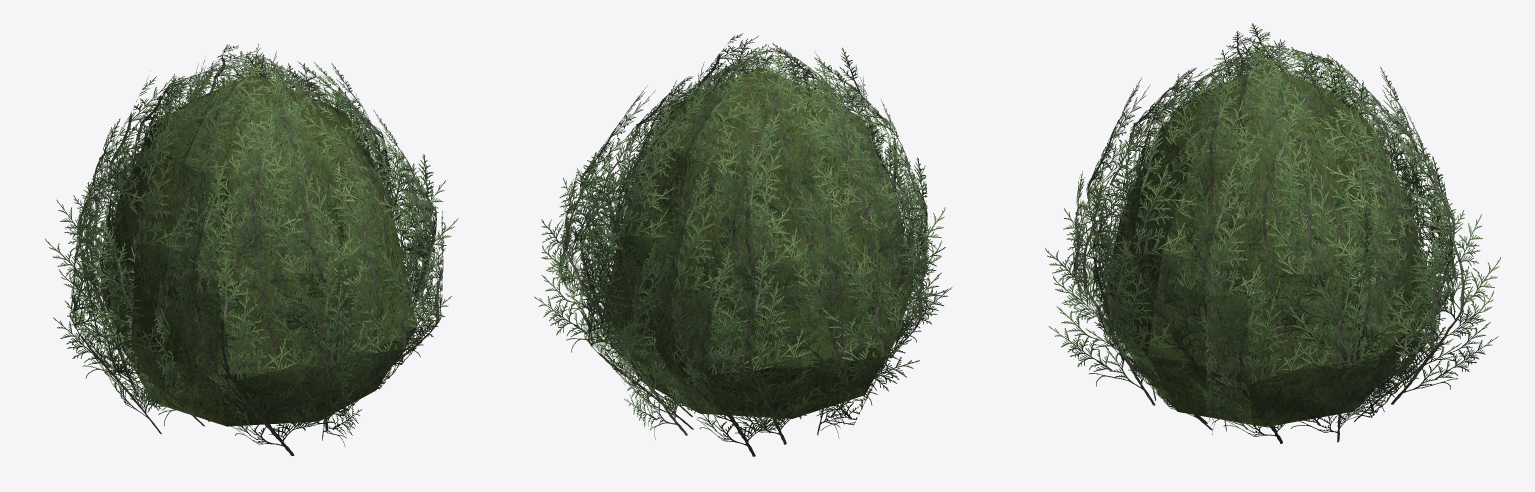
The model's file is bg_atm_tree_gardentree01a_sm_ysi.FBX.
3 views of the same model, side by side, from view 1: azimuth 30°, elevation 25°; view 2: azimuth 150°, elevation 25°; view 3: azimuth 270°, elevation 25° (orthographic).
Parts seen in each view (by area): view 1: bg_atm_tree_gardentree01a_sm_ysi; view 2: bg_atm_tree_gardentree01a_sm_ysi; view 3: bg_atm_tree_gardentree01a_sm_ysi.
Part boxes in pixels (box(x1,y1,x2,y2)): bg_atm_tree_gardentree01a_sm_ysi: box(45, 43, 457, 455); bg_atm_tree_gardentree01a_sm_ysi: box(534, 33, 952, 456); bg_atm_tree_gardentree01a_sm_ysi: box(1045, 23, 1500, 443).
Size of the model in its own units: 171 by 148 by 170.
